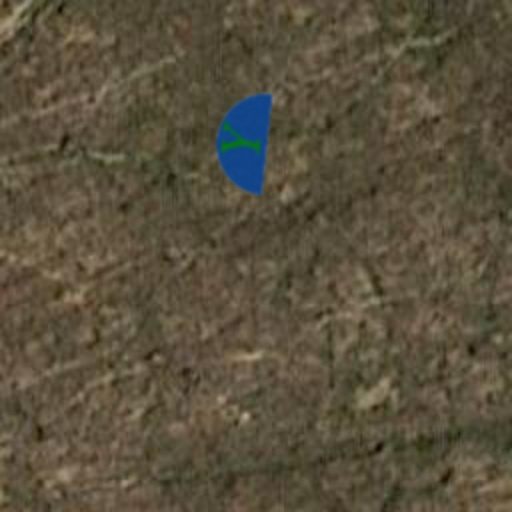semicircle: (184, 84, 300, 200)
